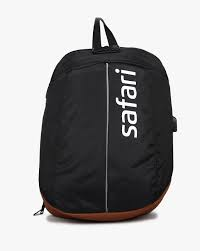backpack: (33, 16, 177, 222)
